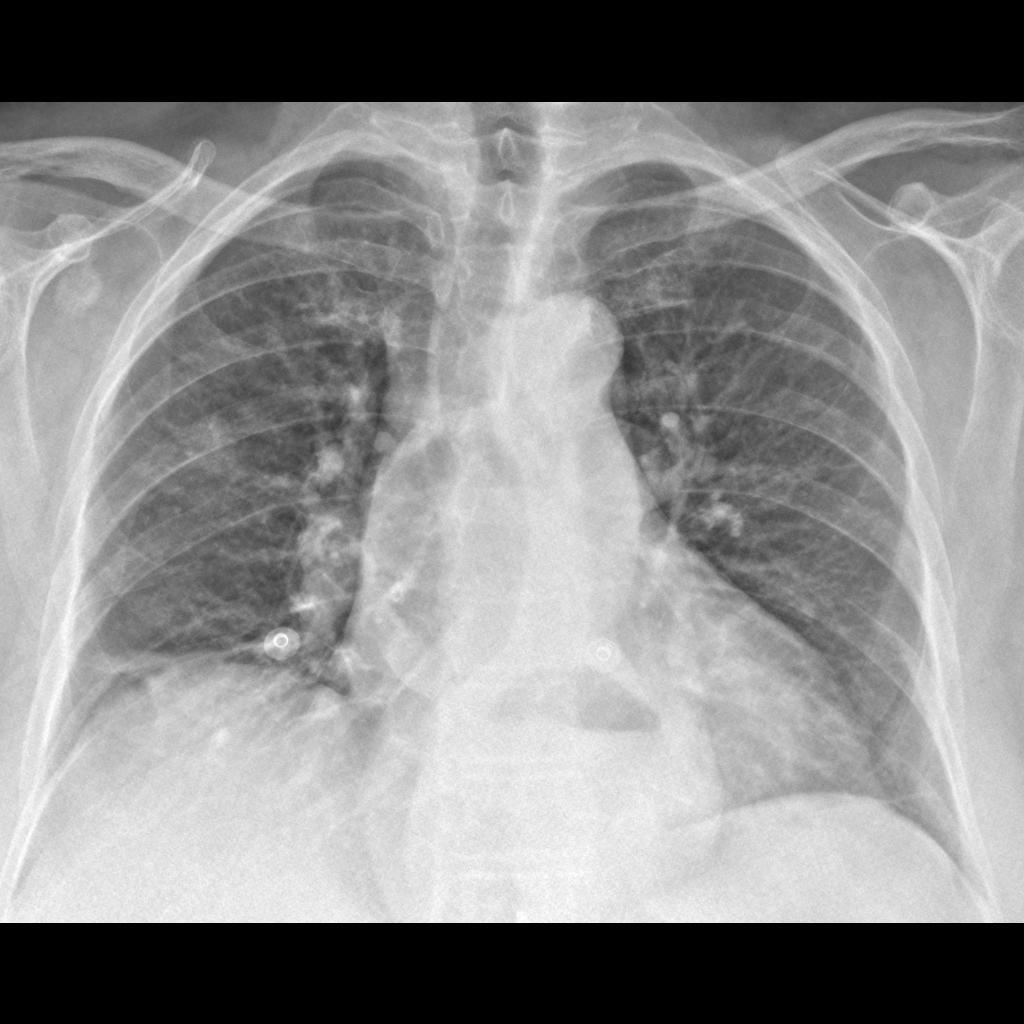Nodule: (178, 406, 250, 485)
